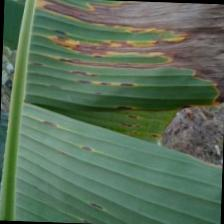sigatoka: (6, 0, 224, 224)
